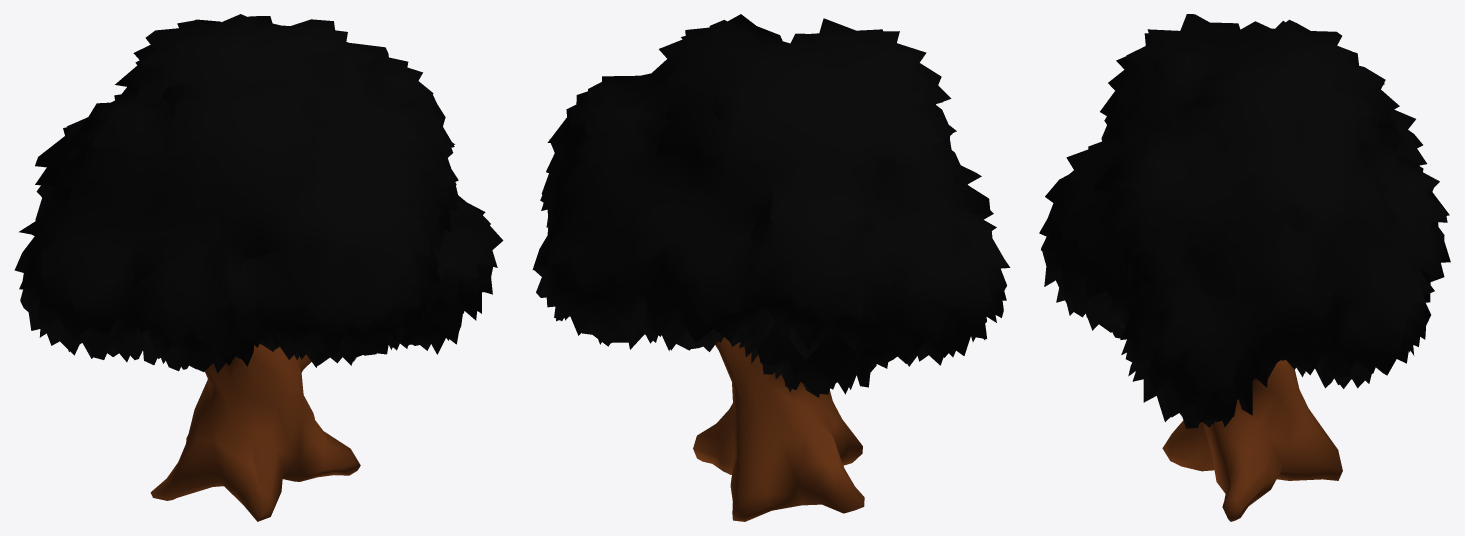
File: combined high.fbx
3 renders of one model, left to right at view 1: azimuth 30°, elevation 25°; view 2: azimuth 150°, elevation 25°; view 3: azimuth 270°, elevation 25°, orthographic. The views are drawn at different scales.
Visible parts, largest first — view 1: High_leaves, High_trunk; view 2: High_leaves, High_trunk; view 3: High_leaves, High_trunk.
Boxes of the visible parts, x1,y1,x2,y2 form: High_leaves: (14, 14, 503, 373); High_trunk: (150, 344, 360, 521); High_leaves: (532, 14, 1010, 397); High_trunk: (693, 337, 864, 521); High_leaves: (1039, 14, 1450, 428); High_trunk: (1162, 360, 1342, 521).
Size of the model in its own units: 11.1 by 11 by 9.44.
